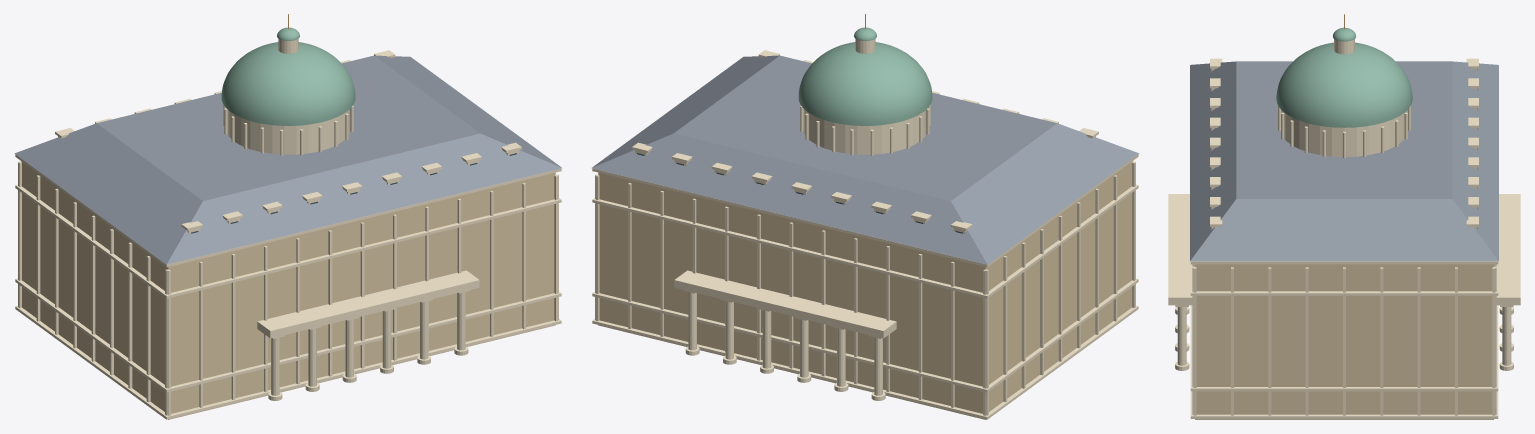
The model's file is hsbc-lod0.glb.
3 renders of one model, left to right at view 1: azimuth 30°, elevation 25°; view 2: azimuth 150°, elevation 25°; view 3: azimuth 270°, elevation 25°, orthographic.
Visible parts, largest first — view 1: hsbc_architecture; view 2: hsbc_architecture; view 3: hsbc_architecture.
Boxes of the visible parts, box(x1,y1,x2,y2) form: hsbc_architecture: box(14, 14, 562, 419); hsbc_architecture: box(591, 14, 1139, 419); hsbc_architecture: box(1168, 14, 1520, 419).
Bounding box in the file's own units: 35.8 × 26.3 × 27.1.
